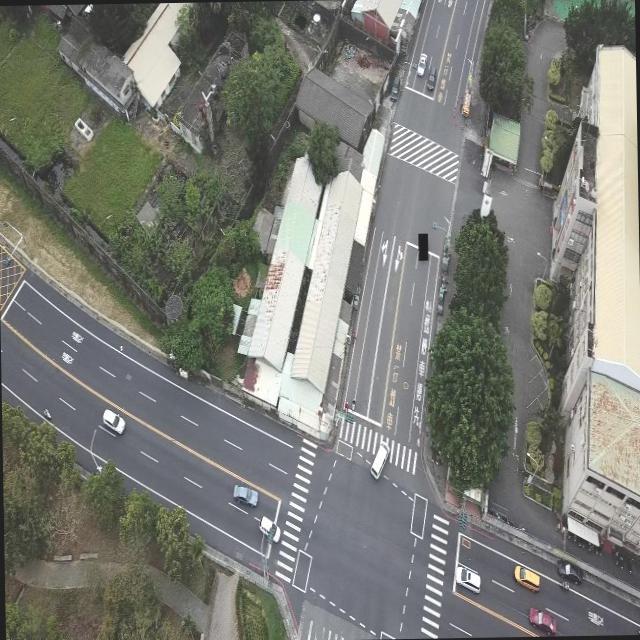car: (454, 562, 481, 592), (528, 606, 556, 634), (513, 562, 540, 590), (369, 444, 388, 480), (100, 406, 124, 434), (232, 483, 258, 508), (258, 515, 280, 543), (556, 560, 582, 582), (416, 51, 426, 75), (426, 66, 435, 90)
